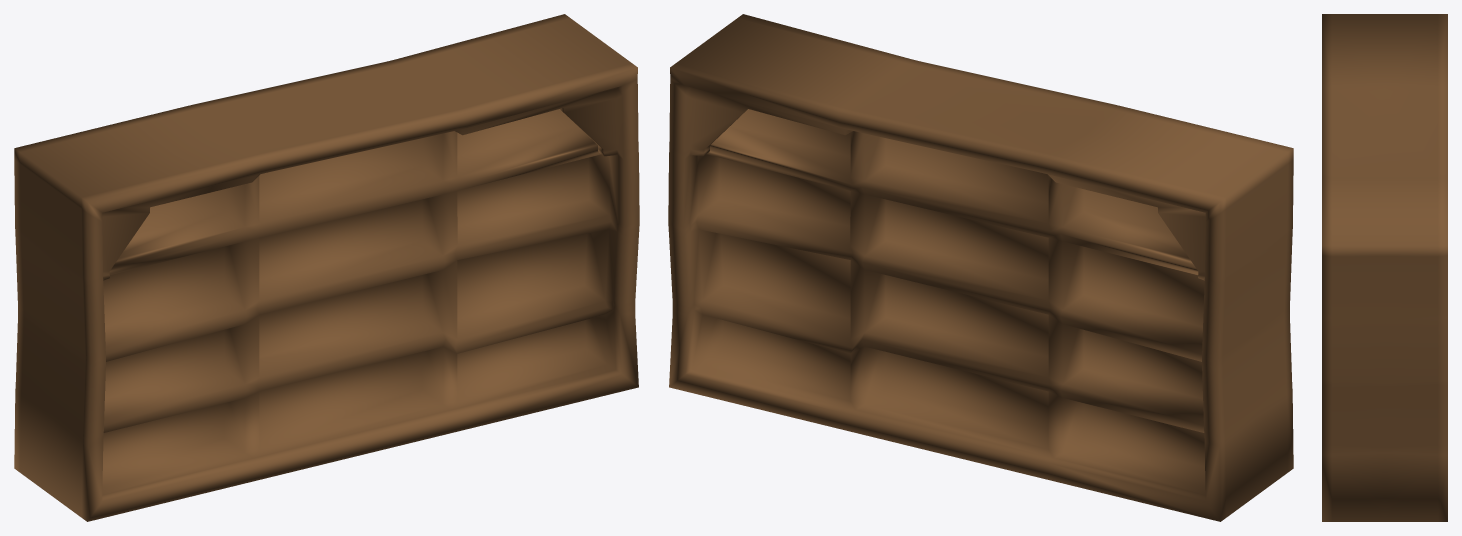
File: Bookshelf_DoubleSided.glb
3 renders of one model, left to right at view 1: azimuth 30°, elevation 25°; view 2: azimuth 150°, elevation 25°; view 3: azimuth 270°, elevation 25°, orthographic. The views are drawn at different scales.
Parts seen in each view (by area): view 1: Bookshelf_DoubleSided; view 2: Bookshelf_DoubleSided; view 3: Bookshelf_DoubleSided.
Boxes of the visible parts, x1,y1,x2,y2 form: Bookshelf_DoubleSided: (14, 14, 639, 521); Bookshelf_DoubleSided: (668, 14, 1293, 521); Bookshelf_DoubleSided: (1322, 14, 1447, 521).
Size of the model in its own units: 3.64 by 2.02 by 0.8351.
